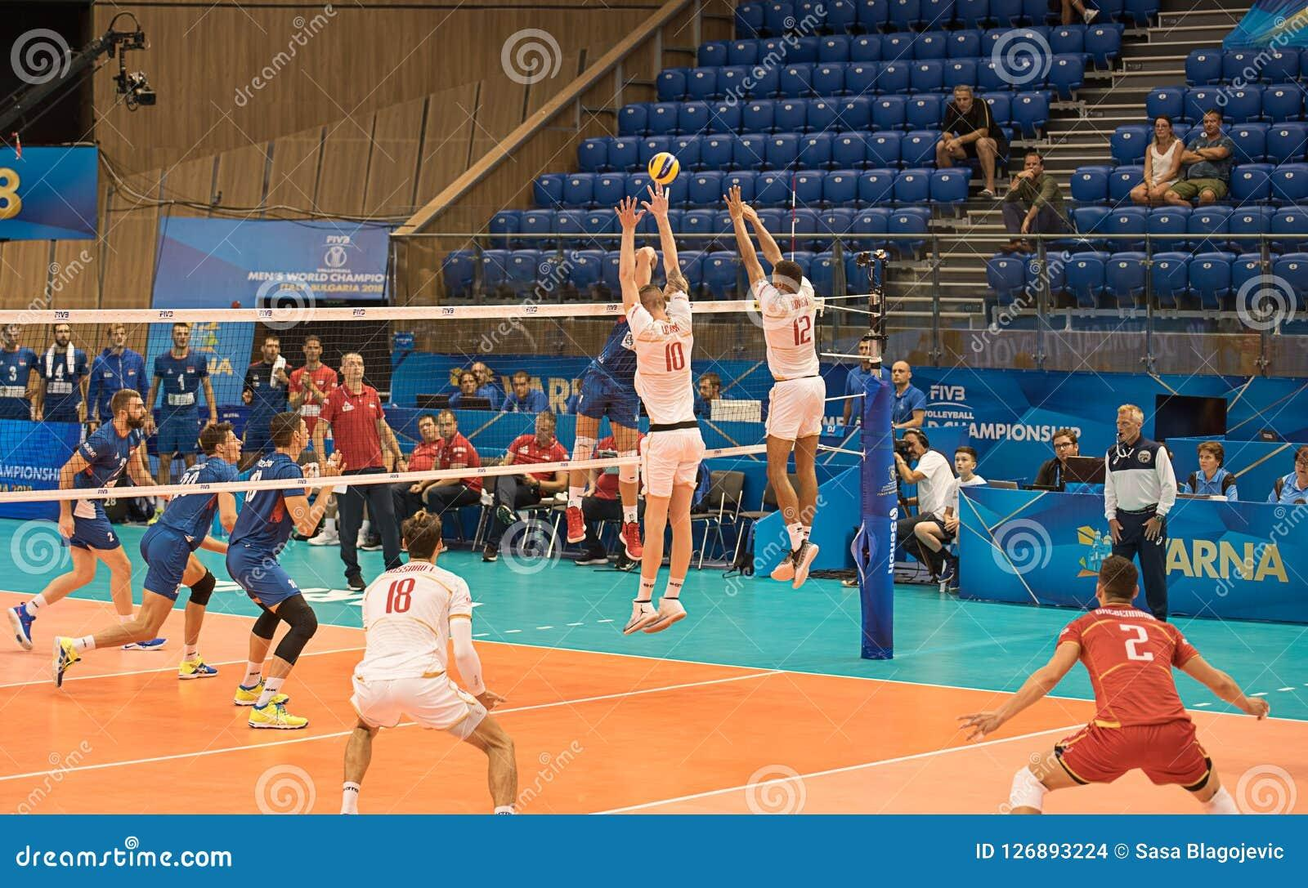ballon_volley: (647, 151, 681, 186)
